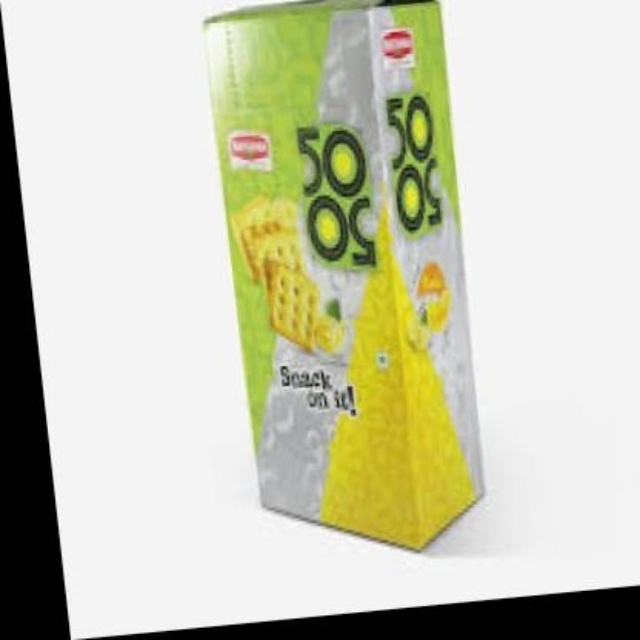trash: (205, 0, 482, 548)
